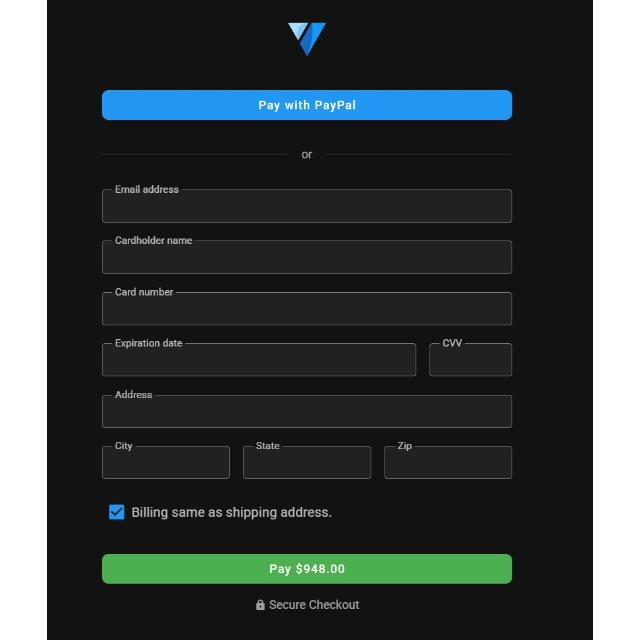QLabel: (132, 506, 334, 520), (259, 100, 357, 112), (268, 564, 346, 576), (270, 600, 360, 610), (302, 150, 312, 158)
VBtn: (101, 553, 513, 585), (102, 90, 514, 120)
VCheckbox: (109, 504, 125, 520)
VDivider: (102, 154, 290, 156), (326, 154, 512, 156)
VIcon: (256, 597, 266, 611)
VImg: (286, 21, 328, 57)
VTextField: (101, 390, 515, 430), (101, 236, 515, 274), (102, 288, 514, 326), (102, 186, 514, 224), (100, 339, 418, 378), (241, 441, 373, 481), (384, 440, 514, 480), (100, 442, 232, 481), (429, 338, 515, 378)
